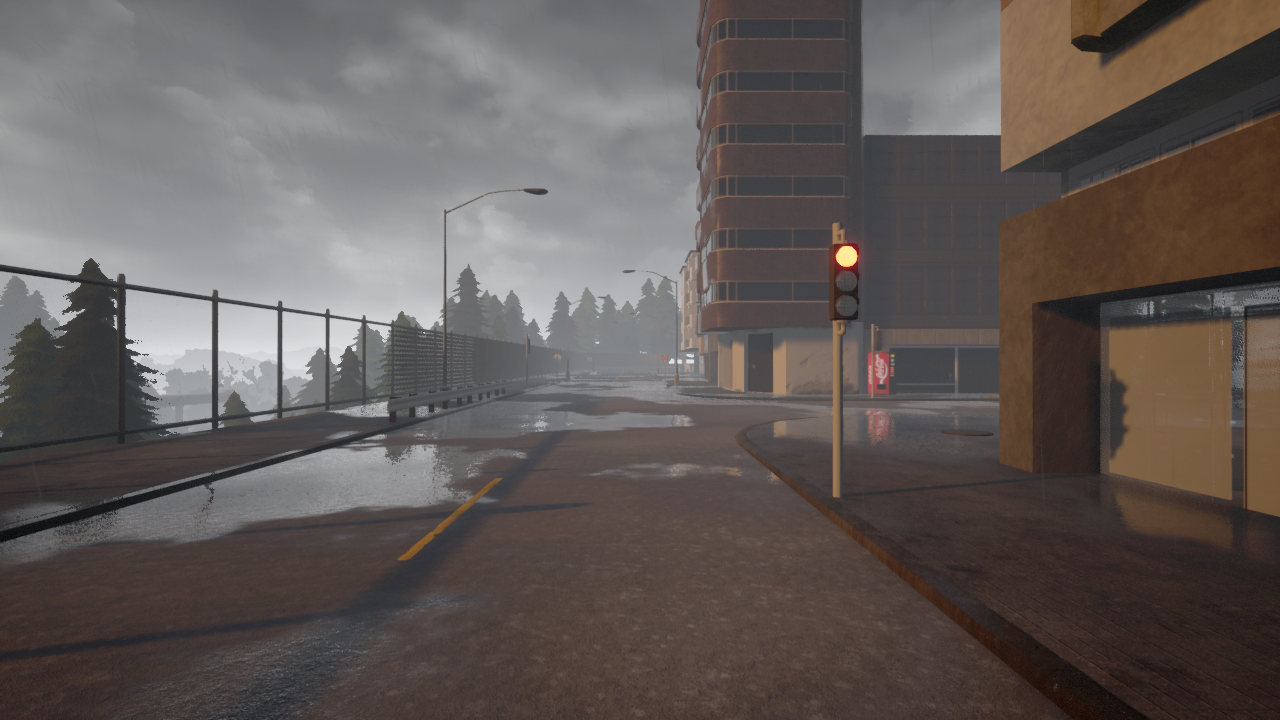red: (827, 243, 861, 326)
